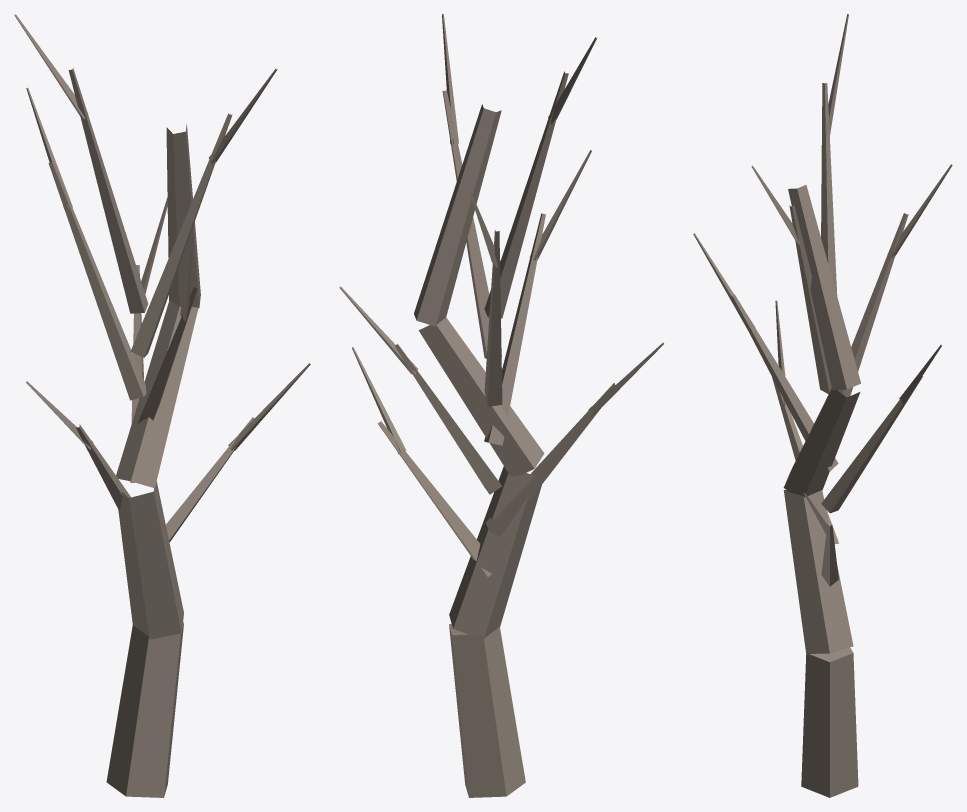
3 renders of one model, left to right at view 1: azimuth 30°, elevation 25°; view 2: azimuth 150°, elevation 25°; view 3: azimuth 270°, elevation 25°, orthographic. The views are drawn at different scales.
Parts seen in each view (by area): view 1: Body; view 2: Body; view 3: Body.
Part boxes in pixels (left/top/right/bottom): Body: left=14, top=14, right=310, bottom=797; Body: left=339, top=14, right=663, bottom=797; Body: left=693, top=14, right=952, bottom=797.
Size of the model in its own units: 2.4 by 6.09 by 1.99.
